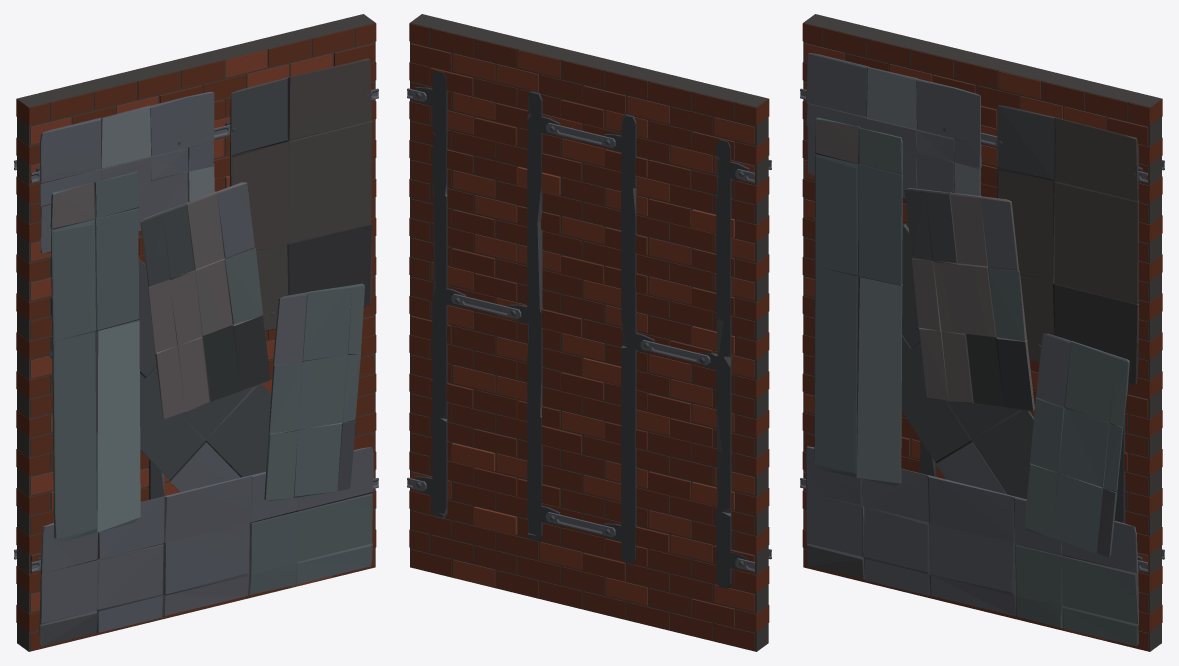
File: SM_Wall_Brick_Lvl_1.glb
3 views of the same model, side by side, from view 1: azimuth 30°, elevation 25°; view 2: azimuth 150°, elevation 25°; view 3: azimuth 330°, elevation 25° (orthographic).
Parts seen in each view (by area): view 1: SM_Wall_Brick_Lvl_3, SM_Wall_Brick_Lvl_1, SM_Wall_Brick_Lvl_2; view 2: SM_Wall_Brick_Lvl_1, SM_Wall_Brick_Lvl_2, SM_Connecting_Screed_For_Wall; view 3: SM_Wall_Brick_Lvl_3, SM_Wall_Brick_Lvl_1, SM_Wall_Brick_Lvl_2.
Part boxes in pixels (bbox=[...]): SM_Wall_Brick_Lvl_3: bbox=[39, 58, 373, 646]; SM_Wall_Brick_Lvl_1: bbox=[16, 14, 376, 651]; SM_Wall_Brick_Lvl_2: bbox=[36, 88, 371, 560]; SM_Wall_Brick_Lvl_1: bbox=[409, 14, 769, 651]; SM_Wall_Brick_Lvl_2: bbox=[414, 70, 749, 588]; SM_Connecting_Screed_For_Wall: bbox=[407, 88, 771, 571]; SM_Wall_Brick_Lvl_3: bbox=[805, 53, 1138, 646]; SM_Wall_Brick_Lvl_1: bbox=[802, 14, 1162, 651]; SM_Wall_Brick_Lvl_2: bbox=[904, 128, 1142, 560].
Size of the model in its own units: 2 by 3 by 0.2424.
1 material, 1 textured.
